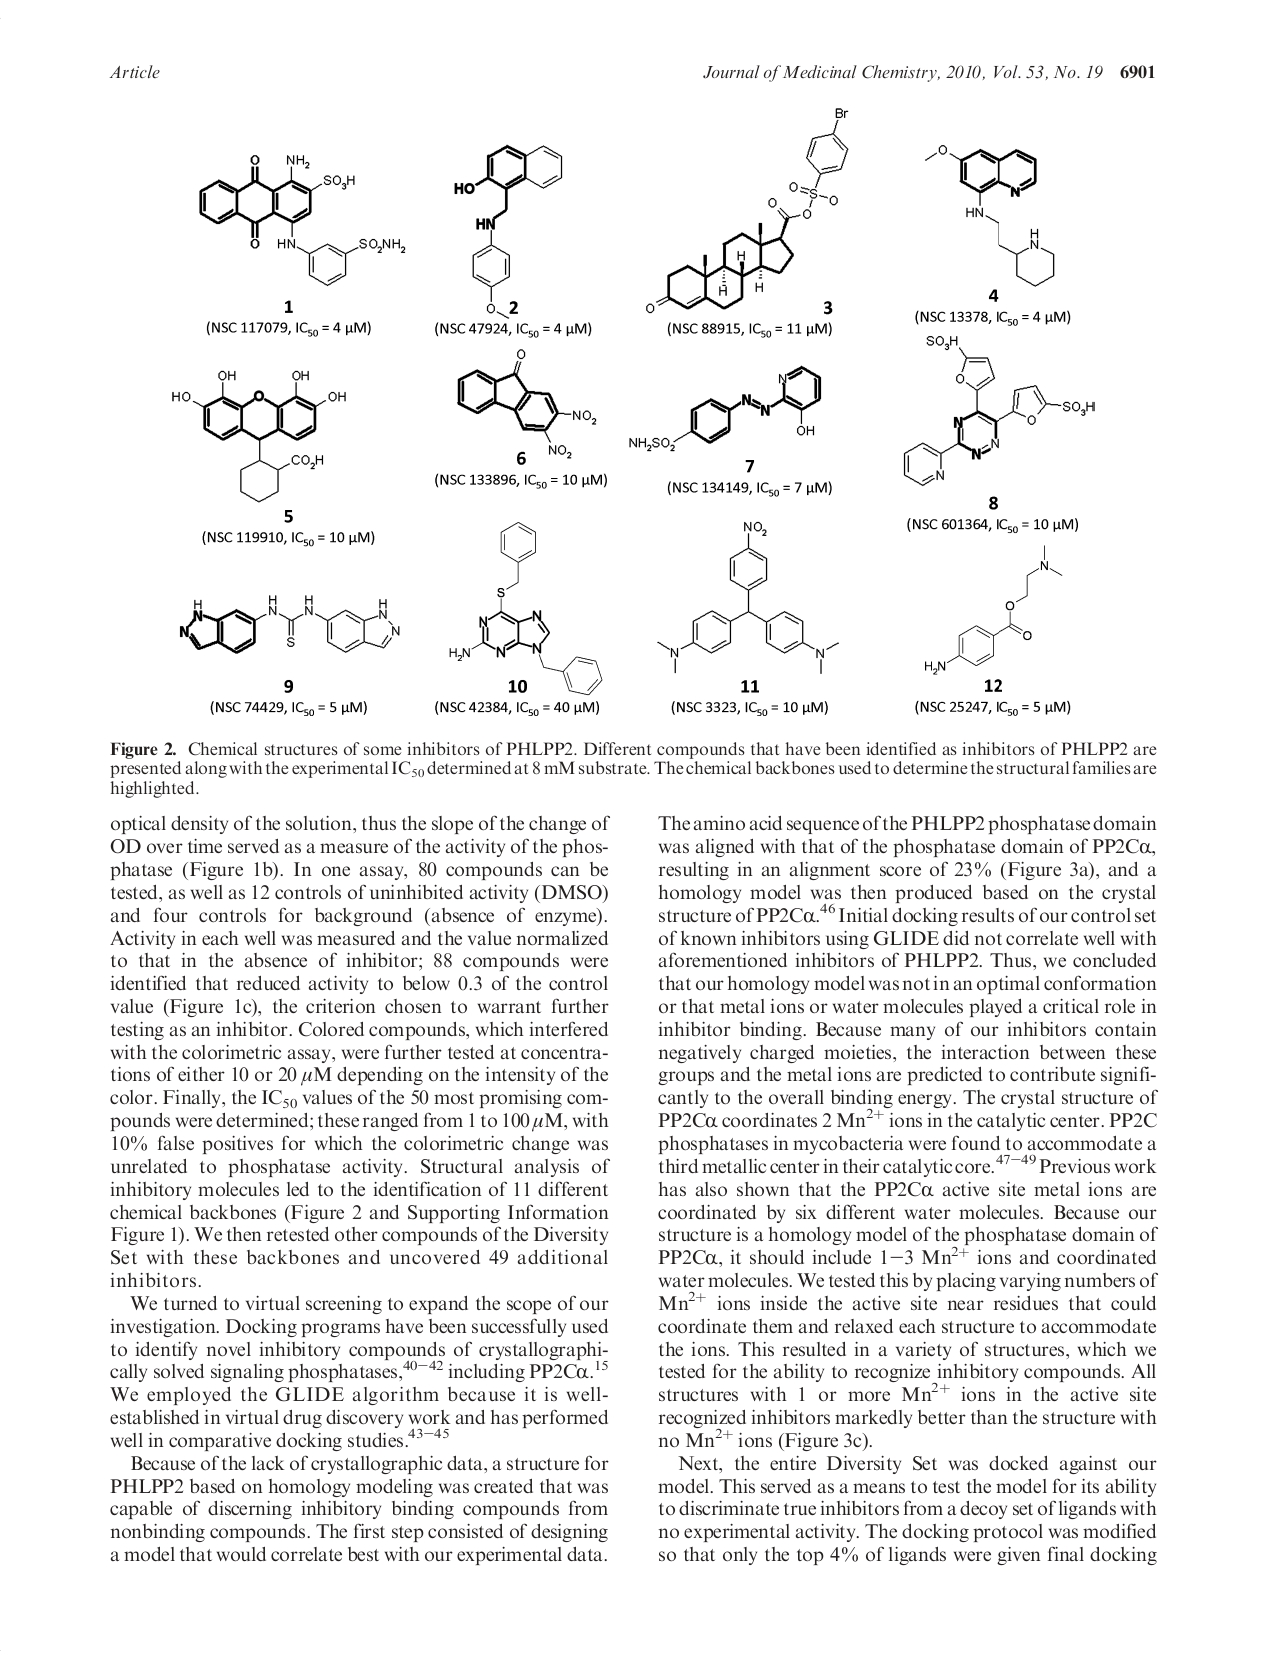exist_molecular: (644, 105, 852, 314), (902, 332, 1101, 487), (658, 519, 842, 676), (199, 150, 407, 287), (448, 521, 605, 698), (170, 368, 347, 503), (922, 141, 1057, 289), (628, 360, 824, 460), (453, 144, 564, 319), (922, 544, 1063, 676), (455, 346, 600, 459), (178, 597, 402, 656)
